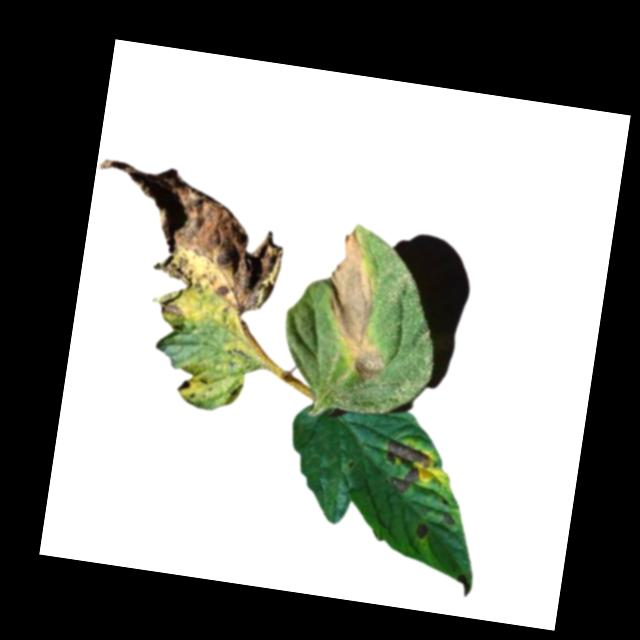Early_blight: (79, 153, 293, 328), (313, 224, 403, 383), (379, 437, 434, 497), (454, 569, 474, 596), (415, 521, 433, 540), (441, 509, 460, 525), (175, 375, 191, 392)
